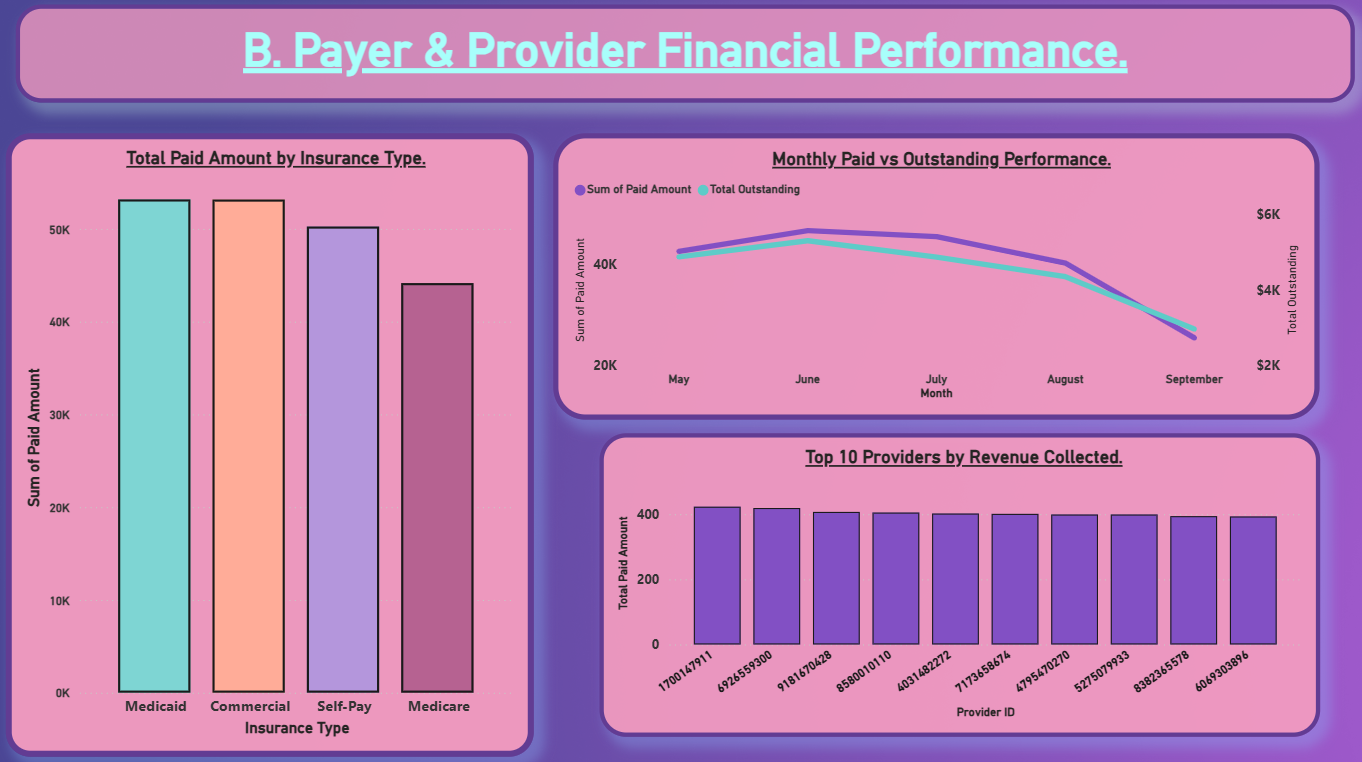

What the dashboard file says about the page in this screenshot:
{"tool":"powerbi","page":{"name":"B. Financial Performance","canvas":[1280,720],"ordinal":1},"visuals":[{"type":"clusteredColumnChart","title":"Total Paid Amount by Insurance Type.","fields":{"Category":["claims_data_cleaned.Insurance Type"],"Y":["Sum(claims_data_cleaned.Paid Amount)"]},"box":[12.2,130.8,491.6,579.6],"z":0},{"type":"lineChart","title":"Monthly Paid vs Outstanding Performance.","fields":{"Y":["Sum(claims_data_cleaned.Paid Amount)"],"Category":["claims_data_cleaned.date of service.Variation.Date Hierarchy.Month","claims_data_cleaned.date of service.Variation.Date Hierarchy.Day"],"Y2":["claims_data_cleaned.Total Outstanding"]},"box":[522.1,130.8,712.9,266.6],"z":1000},{"type":"columnChart","title":"Top 10 Providers by Revenue Collected.","fields":{"Y":["Sum(claims_data_cleaned.Paid Amount)"],"Category":["claims_data_cleaned.Provider ID"]},"box":[564.9,410.9,670.1,282.5],"z":2000},{"type":"textbox","box":[21.6,11.4,1245.7,91.3],"z":2001}]}

Visuals, with their boxes in screenshot pixels (x1, y1, x2, y2), scaled from the page's 1280x720 canvas onto the 1362x762 screenshot:
"Total Paid Amount by Insurance Type." clusteredColumnChart: (13, 138, 536, 752)
"Monthly Paid vs Outstanding Performance." lineChart: (556, 138, 1314, 421)
"Top 10 Providers by Revenue Collected." columnChart: (601, 435, 1314, 734)
textbox: (23, 12, 1348, 109)
